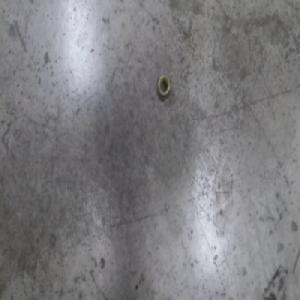Nut: (157, 71, 171, 103)
